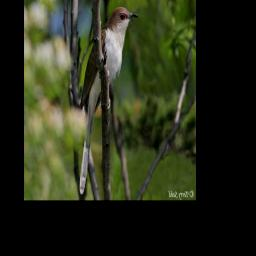Cuckoo: (79, 4, 140, 196)
